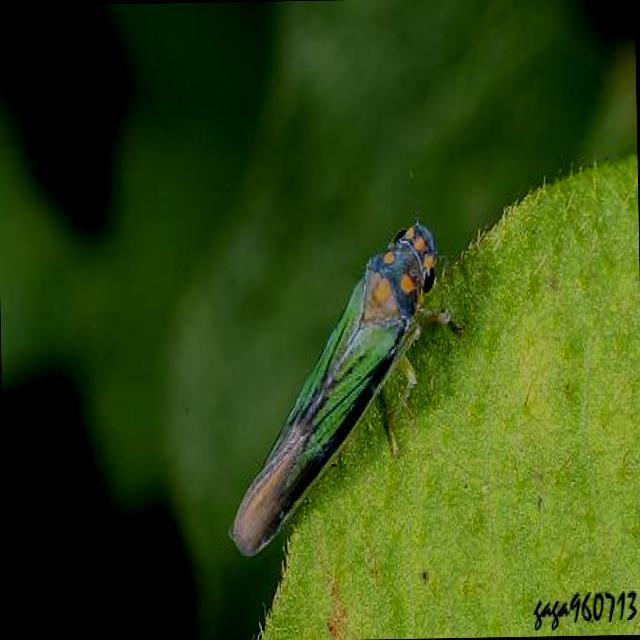green leaf hopper: (230, 222, 460, 555)
